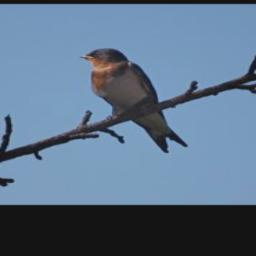Swallow: (79, 47, 188, 153)
